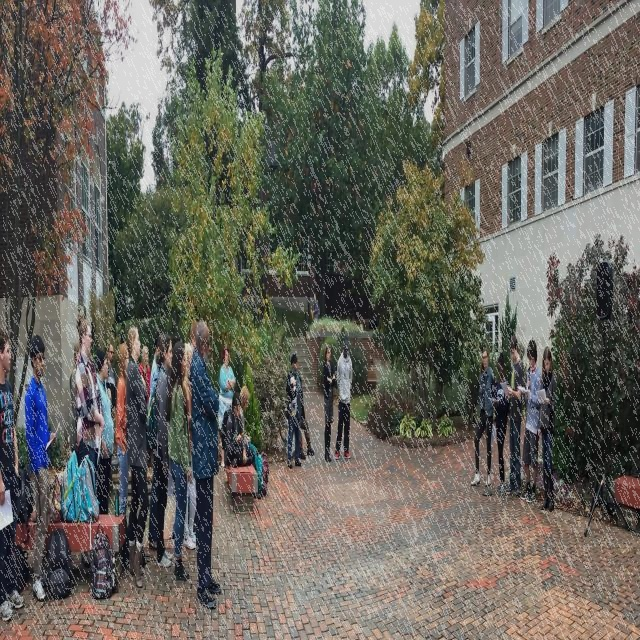pessoa: (188, 317, 222, 614), (25, 330, 57, 606), (74, 310, 105, 570), (0, 324, 25, 627), (144, 332, 174, 570), (164, 333, 192, 587), (124, 322, 150, 592), (219, 390, 262, 500), (470, 344, 496, 491), (520, 334, 542, 505), (538, 345, 558, 513), (504, 334, 524, 498), (96, 348, 114, 518), (182, 342, 196, 551), (114, 341, 130, 517), (334, 332, 353, 462), (284, 350, 304, 470), (492, 352, 508, 494), (218, 346, 236, 468), (167, 467, 197, 540), (138, 344, 154, 470), (68, 338, 82, 470), (297, 372, 315, 462), (323, 343, 336, 462), (106, 343, 117, 458), (148, 332, 164, 399), (237, 384, 253, 450), (190, 320, 200, 355), (310, 290, 320, 325)
